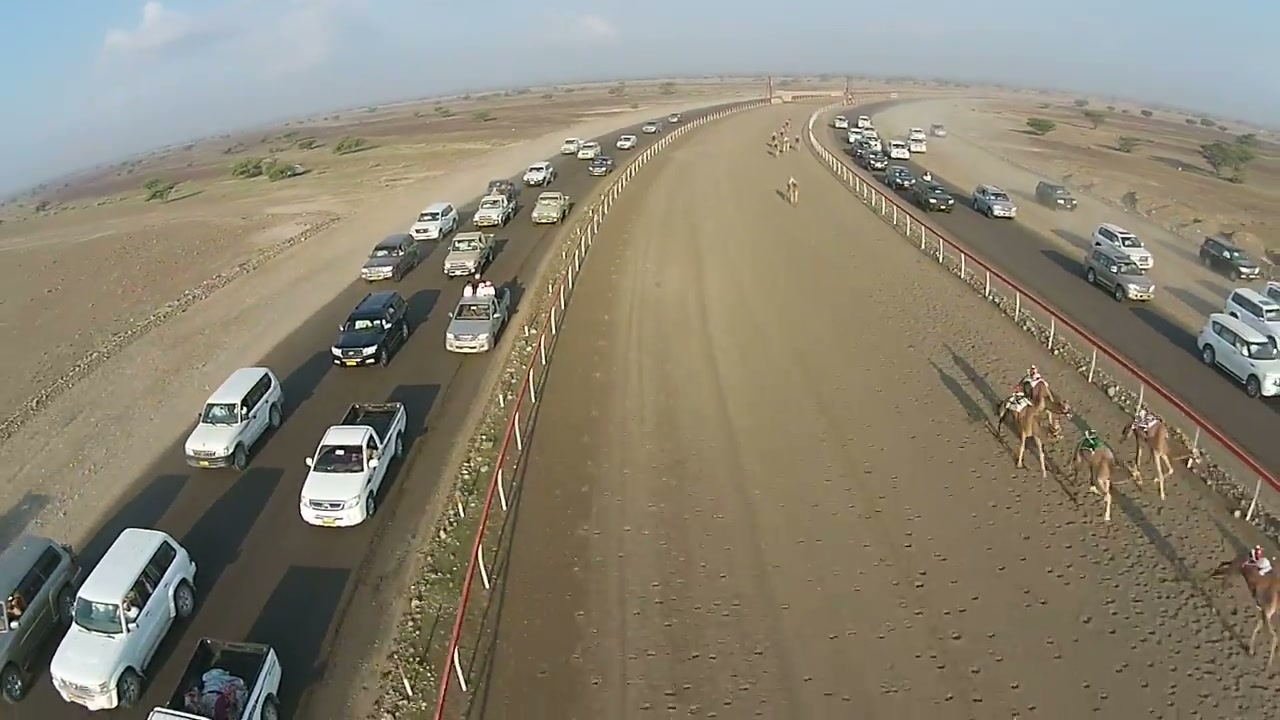animal_foot_print: (998, 478, 1279, 719), (900, 458, 1039, 713)
